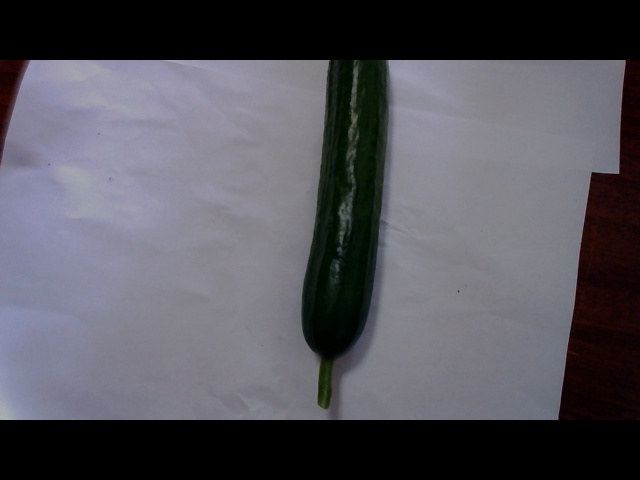cucumber: (293, 62, 390, 394)
